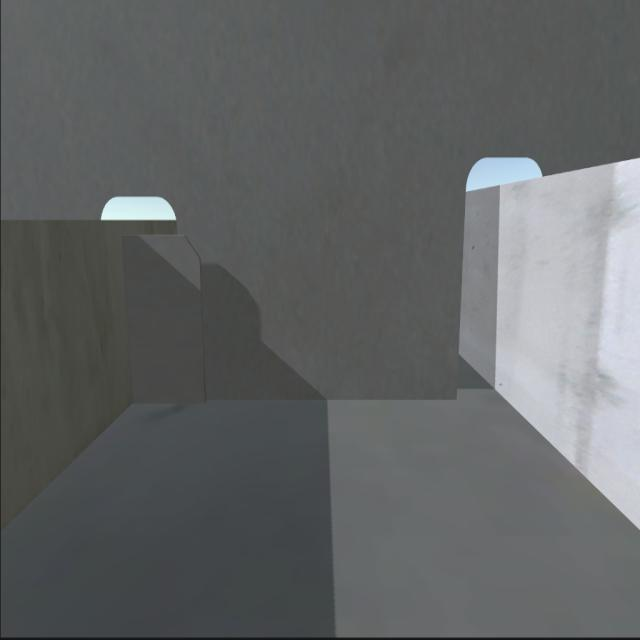fillet_yong_jeop_jang: (131, 388, 459, 407)
longi_yong_jeop_jang: (114, 242, 141, 401)
plate_CP03: (121, 236, 209, 404)
